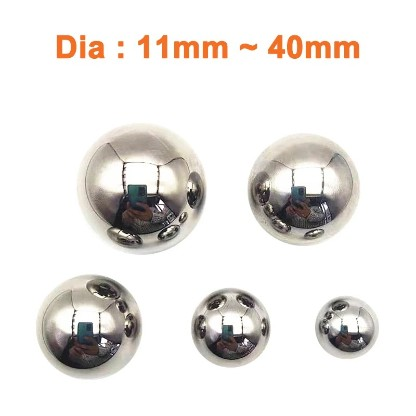ironball: (75, 122, 206, 254), (247, 132, 360, 245), (35, 273, 141, 379), (190, 287, 270, 367), (314, 294, 379, 359)
